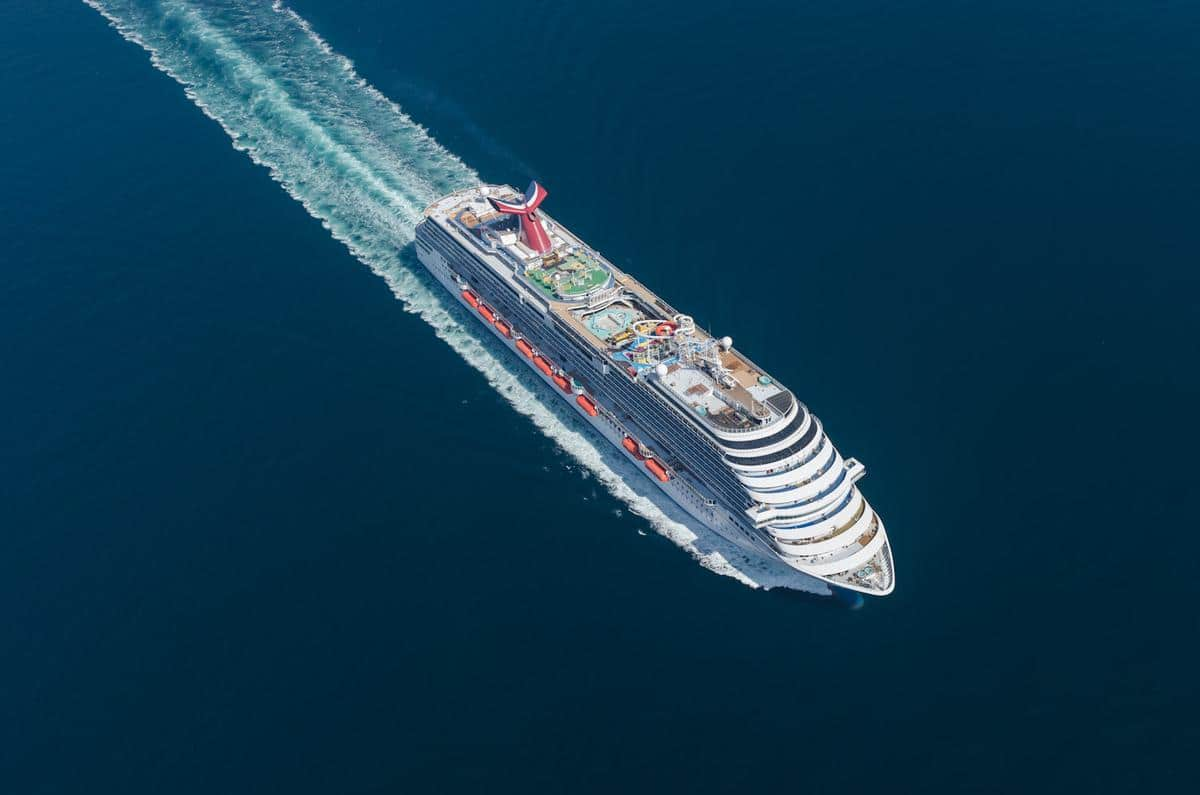ship: (426, 177, 940, 660)
